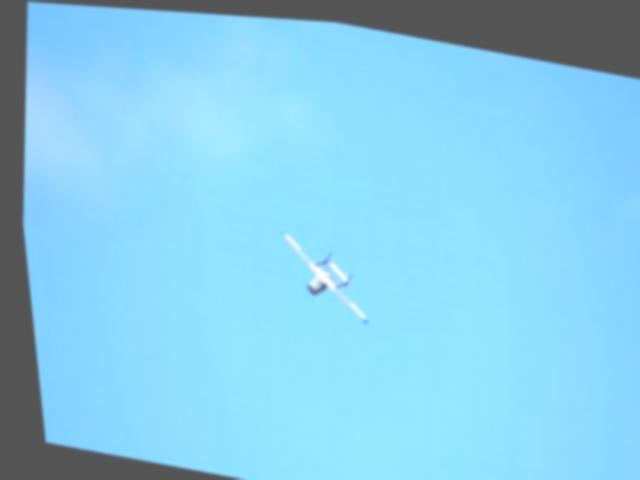uav: (263, 216, 374, 323)
